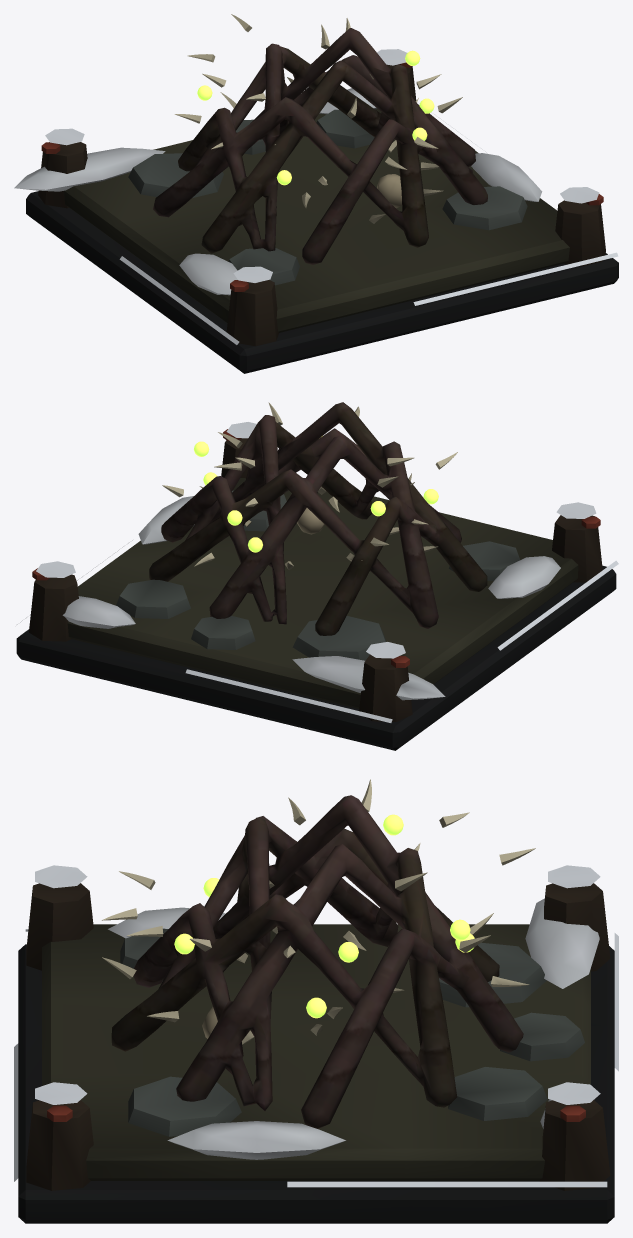
Rendered from sylvestres-1.glb.
3 renders of one model, top to bottom at view 1: azimuth 30°, elevation 25°; view 2: azimuth 150°, elevation 25°; view 3: azimuth 270°, elevation 25°, orthographic. The views are drawn at different scales.
Visible parts, largest first — view 1: lunebois_1_architecture, lunebois_1_ronces, lunebois_1_ronces_lueur; view 2: lunebois_1_architecture, lunebois_1_ronces, lunebois_1_ronces_lueur; view 3: lunebois_1_architecture, lunebois_1_ronces, lunebois_1_ronces_lueur.
Boxes of the visible parts, x1=… form: lunebois_1_architecture: x1=14, y1=14, x2=618, y2=373; lunebois_1_ronces: x1=153, y1=28, x2=487, y2=264; lunebois_1_ronces_lueur: x1=197, y1=50, x2=434, y2=185; lunebois_1_architecture: x1=16, y1=402, x2=618, y2=750; lunebois_1_ronces: x1=149, y1=402, x2=487, y2=635; lunebois_1_ronces_lueur: x1=194, y1=436, x2=438, y2=552; lunebois_1_architecture: x1=14, y1=779, x2=618, y2=1223; lunebois_1_ronces: x1=111, y1=795, x2=523, y2=1128; lunebois_1_ronces_lueur: x1=174, y1=814, x2=474, y2=1018.
Bounding box in the file's own units: 0.8655 × 0.4167 × 0.811.
Materials: 3 (1 with a texture image).
